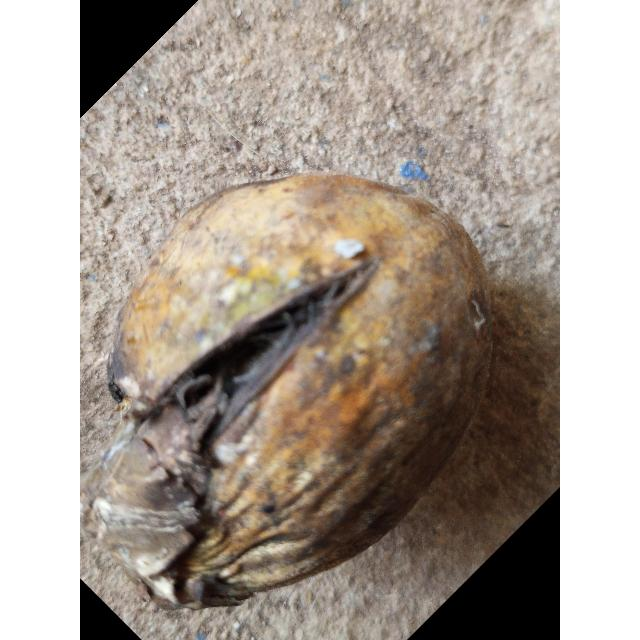damaged: (80, 174, 492, 608)
